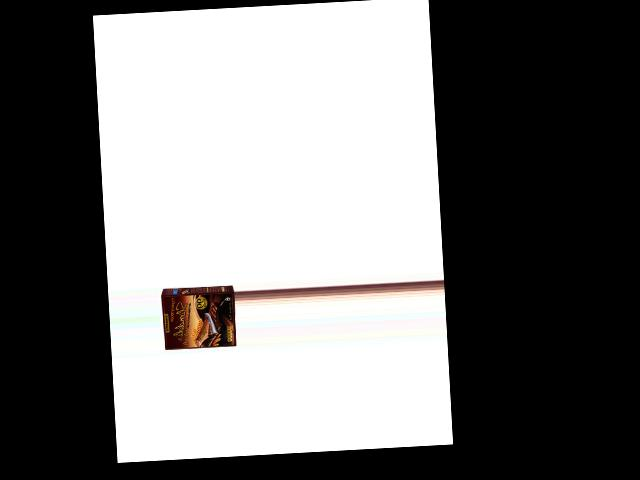chocolate: (159, 281, 238, 356)
